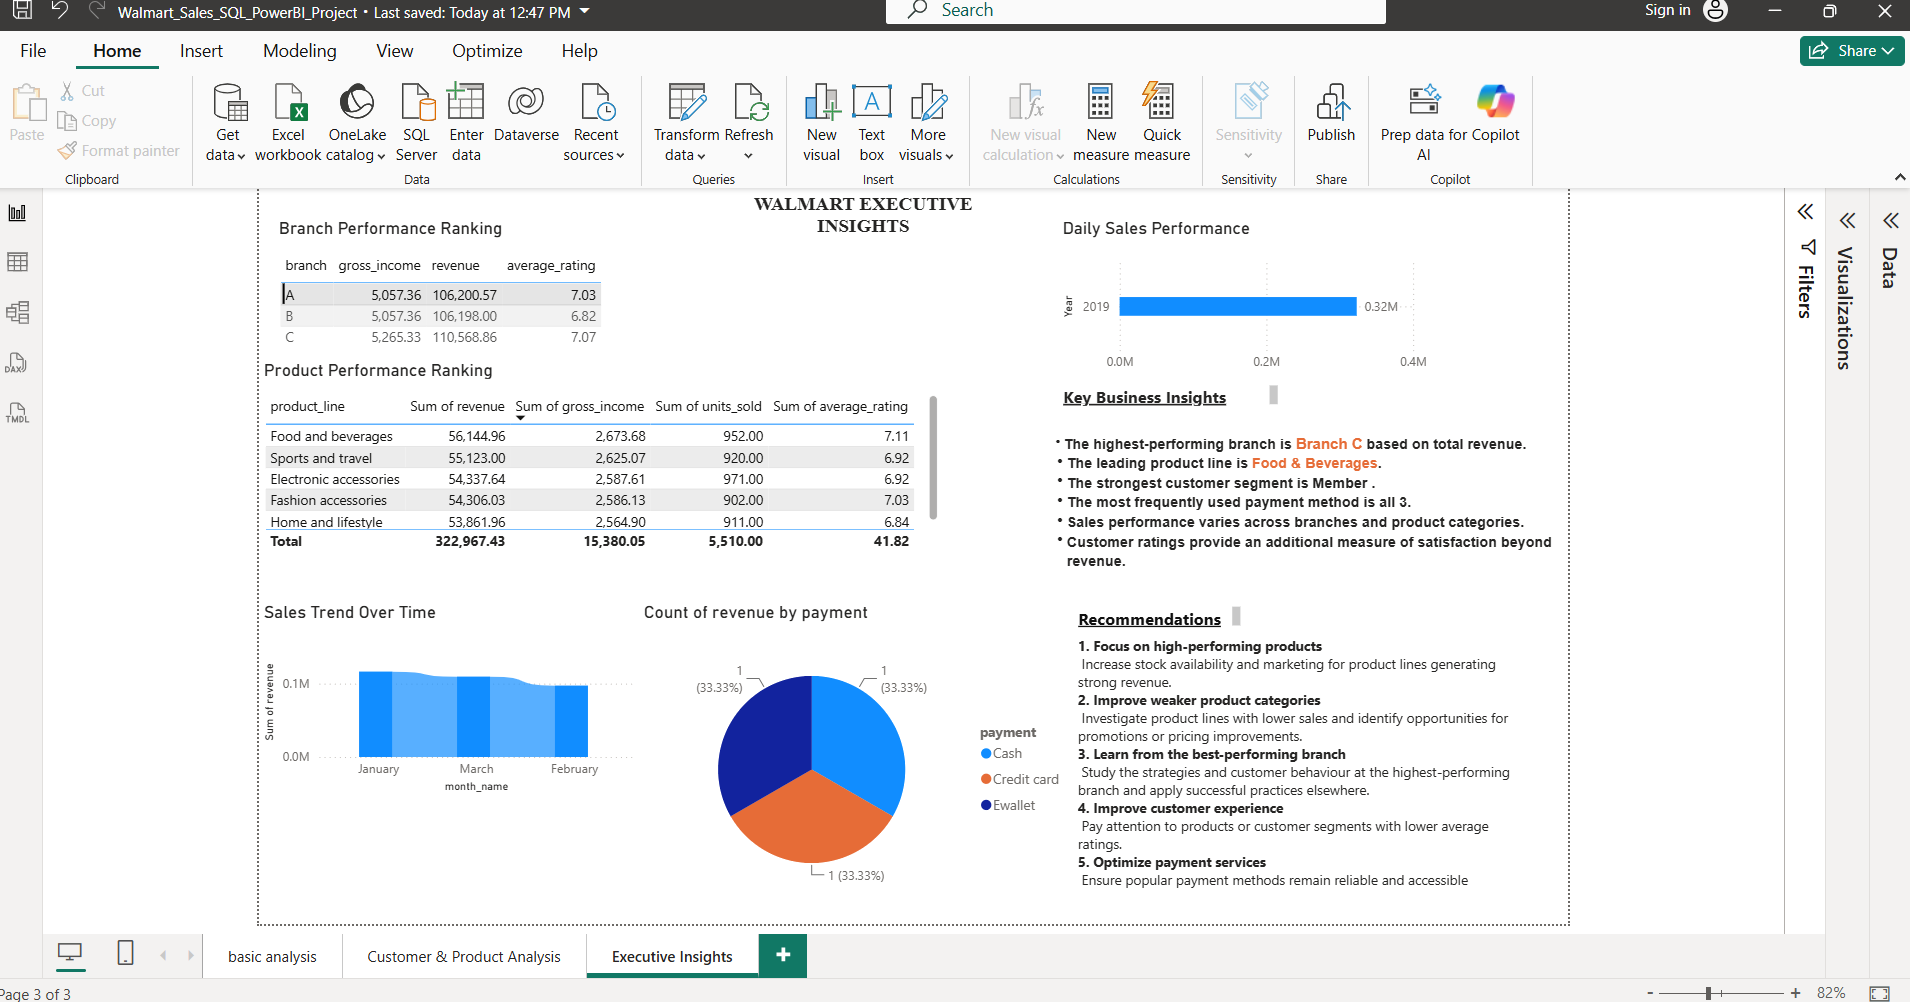

The dashboard page shown, as its layout file describes it:
{"tool":"powerbi","page":{"name":"Executive Insights","canvas":[1280,720],"ordinal":2},"visuals":[{"type":"textbox","box":[450.7,0,280,59.9],"z":0},{"type":"tableEx","title":"Branch Performance Ranking","fields":{"Values":["walmart_sales vw_dashboard_branch.branch","walmart_sales vw_dashboard_branch.gross_income","walmart_sales vw_dashboard_branch.revenue","walmart_sales vw_dashboard_branch.average_rating"]},"box":[15,29.9,327.9,158.7],"z":1000},{"type":"tableEx","title":"Product Performance Ranking","fields":{"Values":["walmart_sales vw_dashboard_product.product_line","Sum(walmart_sales vw_dashboard_product.revenue)","Sum(walmart_sales vw_dashboard_product.gross_income)","Sum(walmart_sales vw_dashboard_product.units_sold)","Sum(walmart_sales vw_dashboard_product.average_rating)"]},"box":[0,167.7,669.4,191.7],"z":2000},{"type":"ribbonChart","title":"Sales Trend Over Time","fields":{"Category":["walmart_sales vw_dashboard_monthly.month_name"],"Y":["Sum(walmart_sales vw_dashboard_monthly.revenue)"]},"box":[0,404.3,371.4,191.7],"z":3000},{"type":"pieChart","fields":{"Category":["walmart_sales vw_payment_analysis.payment"],"Y":["CountNonNull(walmart_sales vw_payment_analysis.revenue)"]},"box":[371.4,404.3,425.3,298],"z":4000},{"type":"barChart","title":"Daily Sales Performance","fields":{"Category":["walmart_sales vw_daily_sales.date.Variation.Date Hierarchy.Year","walmart_sales vw_daily_sales.date.Variation.Date Hierarchy.Quarter","walmart_sales vw_daily_sales.date.Variation.Date Hierarchy.Month","walmart_sales vw_daily_sales.date.Variation.Date Hierarchy.Day"],"Y":["Sum(walmart_sales vw_daily_sales.revenue)"]},"box":[781.7,29.9,366.9,158.7],"z":5000},{"type":"textbox","box":[781.7,188.7,220.1,29.9],"z":6000},{"type":"textbox","box":[764.6,219.1,515.7,184.8],"z":7000},{"type":"textbox","box":[796.6,404.3,169.2,29.9],"z":7001},{"type":"textbox","box":[796.6,434.3,441.7,268],"z":7002}]}

Visuals, with their boxes on the page's 1280x720 design canvas (x1, y1, x2, y2). These are canvas units, not pixel positions in the 1910x1002 screenshot, which may show the page scaled, cropped or inside an application window:
textbox: 451, 0, 731, 60
"Branch Performance Ranking" tableEx: 15, 30, 343, 189
"Product Performance Ranking" tableEx: 0, 168, 669, 359
"Sales Trend Over Time" ribbonChart: 0, 404, 371, 596
pieChart - walmart_sales vw_payment_analysis.payment x CountNonNull(walmart_sales vw_payment_analysis.revenue): 371, 404, 797, 702
"Daily Sales Performance" barChart: 782, 30, 1149, 189
textbox: 782, 189, 1002, 219
textbox: 765, 219, 1280, 404
textbox: 797, 404, 966, 434
textbox: 797, 434, 1238, 702
